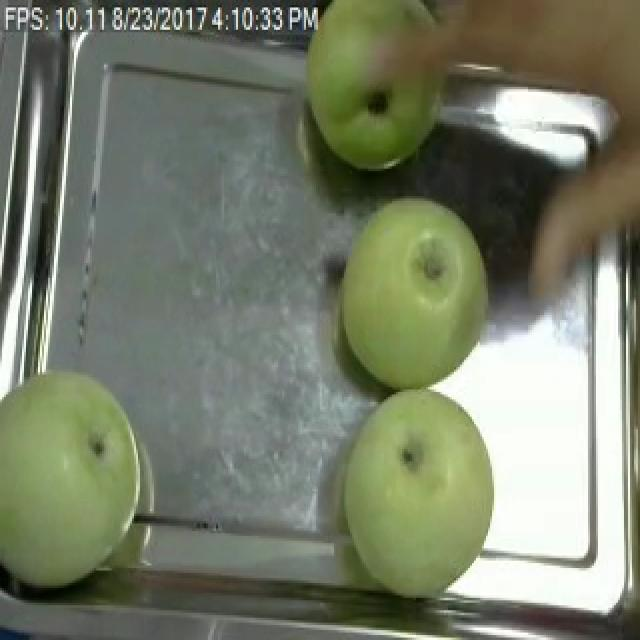50-_ripeness: (340, 194, 508, 383), (338, 394, 490, 601), (0, 378, 144, 588), (313, 0, 454, 159)
